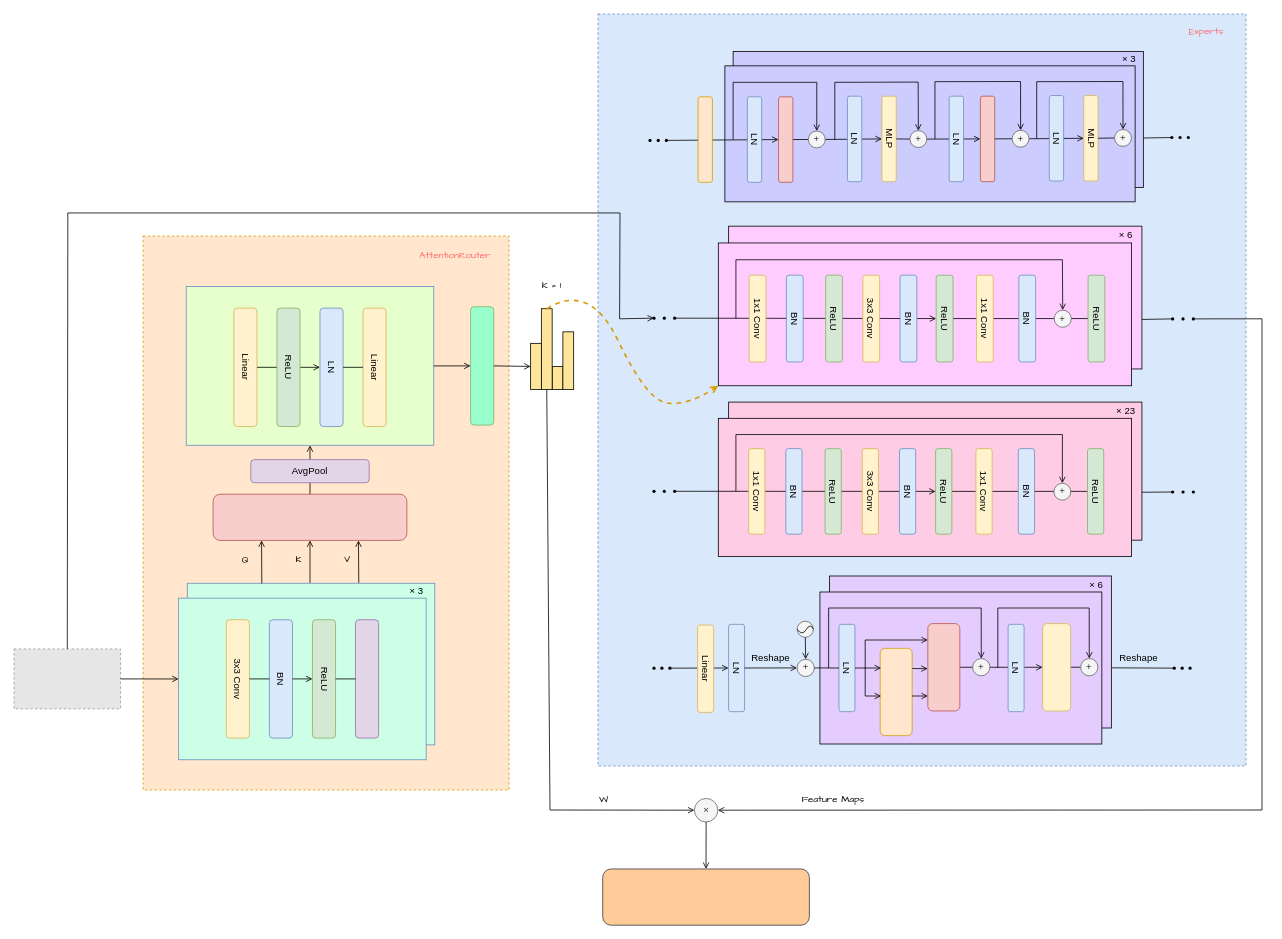
Image size: 1282x939. Some labels were removed from this diagram. Grey dashed boxes stand in for pictures. Here are the shapes that lost their labels. From the top down, the box of each, then its label:
(697, 96, 712, 182): Patch Merging
(778, 96, 793, 182): W-MSA
(980, 95, 995, 182): SW-MSA
(470, 306, 494, 425): Softmax
(212, 493, 407, 540): Multi-Head Self Attention
(355, 619, 379, 738): MaxPool
(927, 623, 960, 711): Multi-Head Attention
(1042, 623, 1071, 711): Feed Forward
(879, 648, 912, 736): Spacial Reduction
(602, 868, 809, 925): Neck
